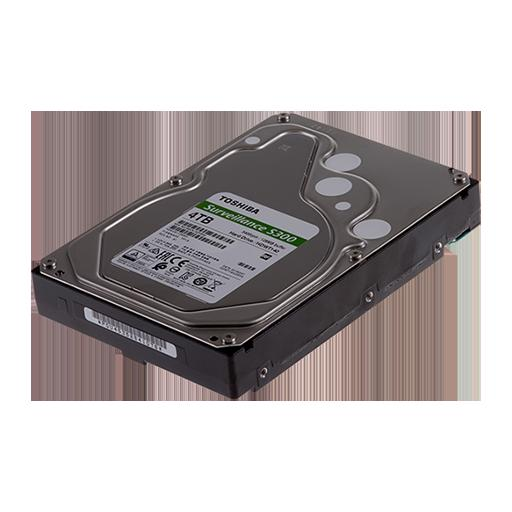internal HDD: (32, 114, 479, 400)
